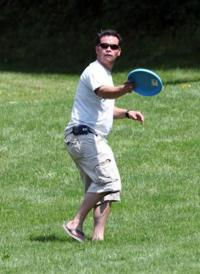person: (62, 29, 145, 244)
